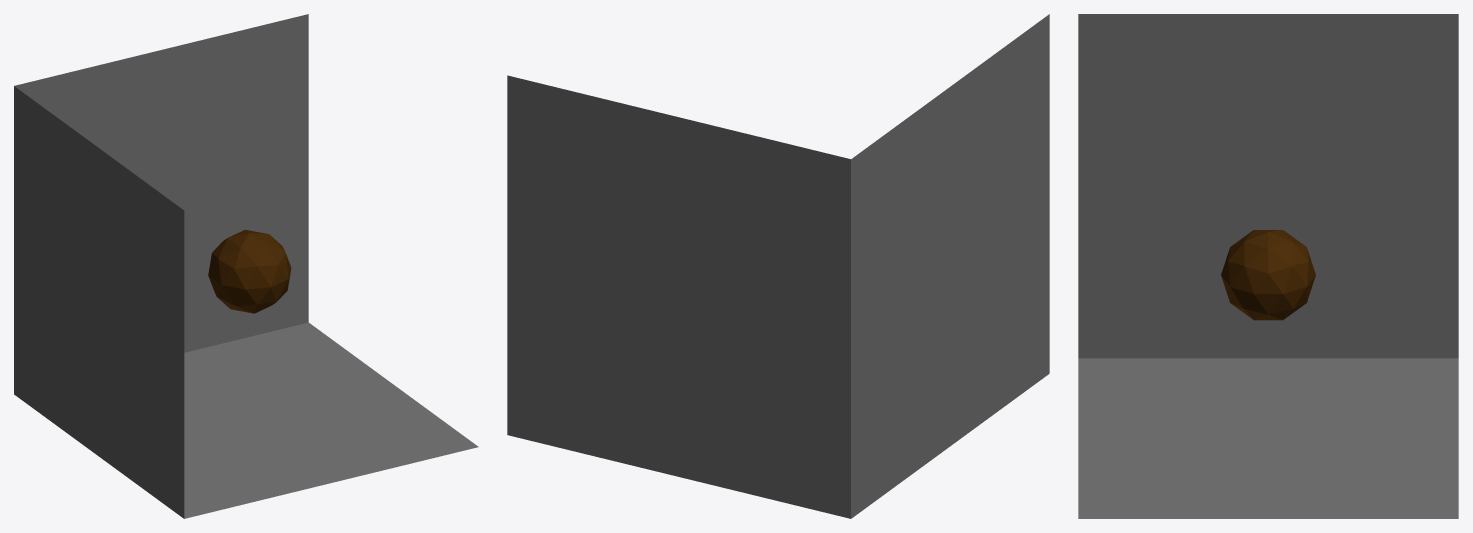
3 renders of one model, left to right at view 1: azimuth 30°, elevation 25°; view 2: azimuth 150°, elevation 25°; view 3: azimuth 270°, elevation 25°, orthographic. The views are drawn at different scales.
Visible parts, largest first — view 1: Cube, Icosphere; view 2: Cube; view 3: Cube, Icosphere.
Part boxes in pixels (left/top/right/bottom): Cube: left=14, top=14, right=478, bottom=518; Icosphere: left=208, top=229, right=291, bottom=313; Cube: left=507, top=14, right=1049, bottom=518; Cube: left=1078, top=14, right=1458, bottom=518; Icosphere: left=1221, top=230, right=1315, bottom=320.
Bounding box in the file's own units: 8 × 8 × 8.
